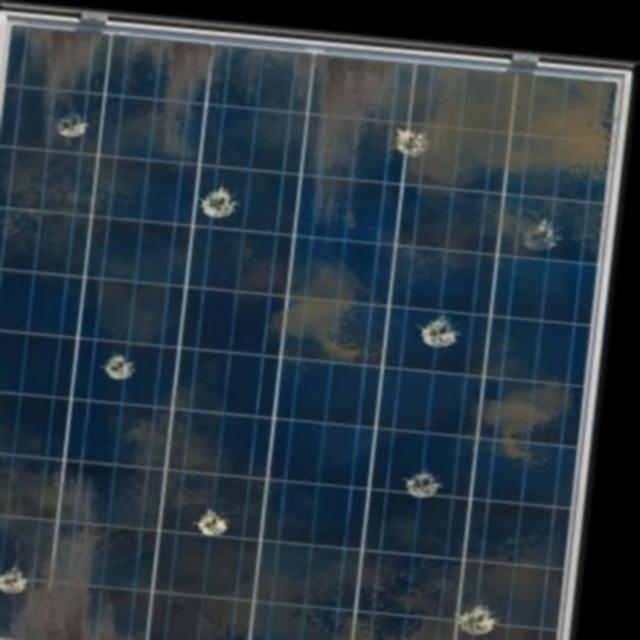soiled: (2, 9, 630, 640)
